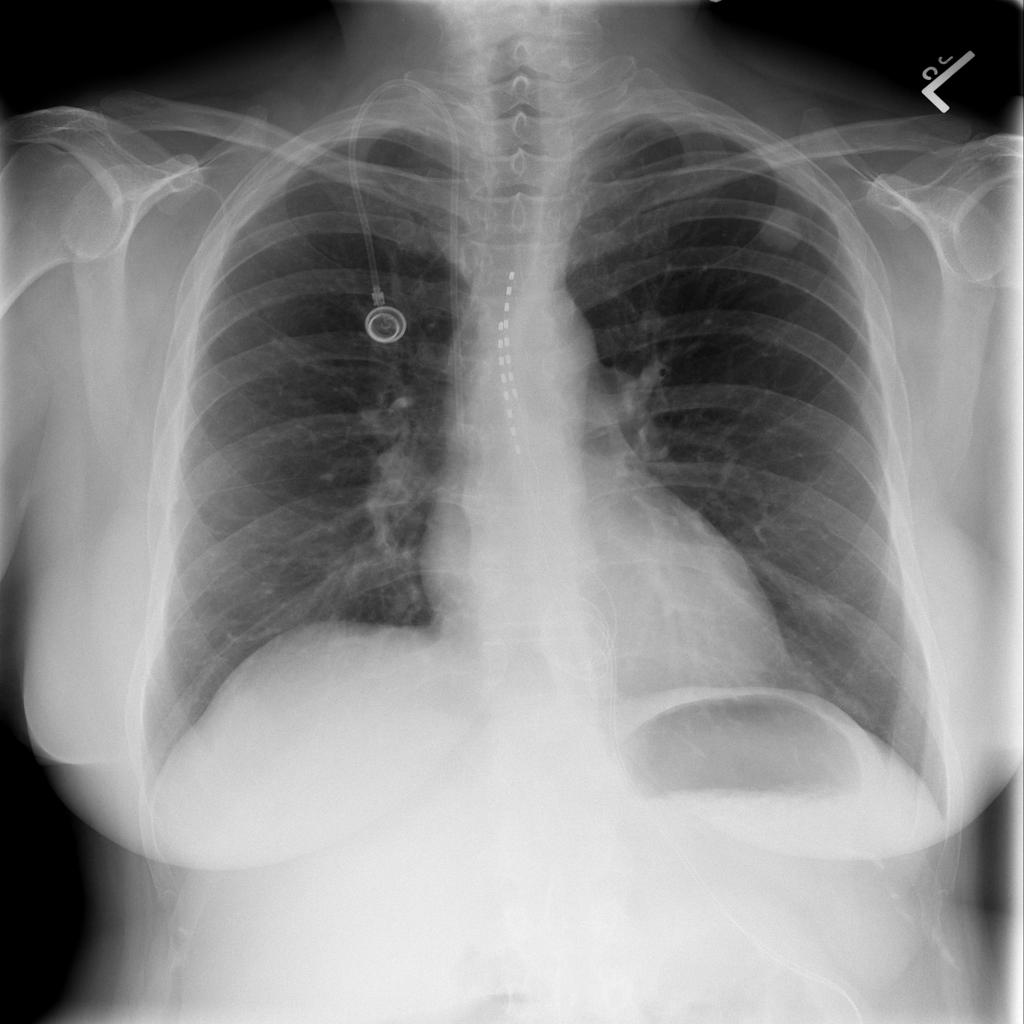nodule: (750, 204, 810, 259)
